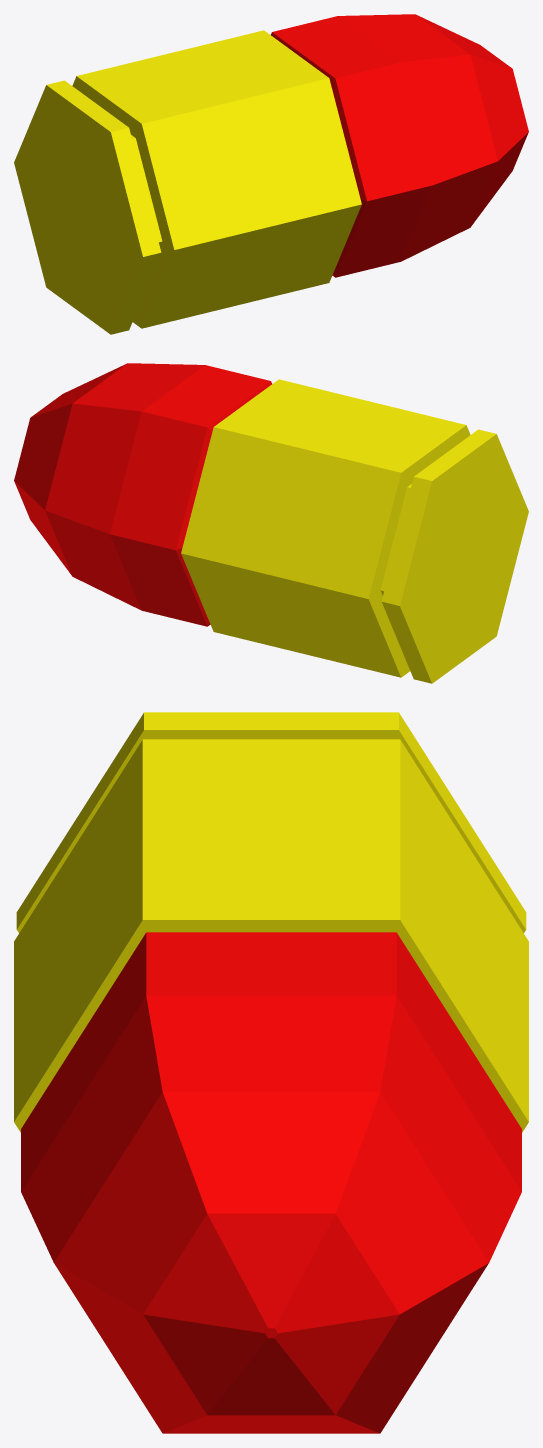
3 renders of one model, top to bottom at view 1: azimuth 30°, elevation 25°; view 2: azimuth 150°, elevation 25°; view 3: azimuth 270°, elevation 25°, orthographic. The views are drawn at different scales.
Visible parts, largest first — view 1: Object_4_mesh0, Object_5_mesh0; view 2: Object_4_mesh0, Object_5_mesh0; view 3: Object_5_mesh0, Object_4_mesh0.
Part boxes in pixels (x1,y1,x2,y2): Object_4_mesh0: [14, 30, 361, 334]; Object_5_mesh0: [271, 14, 528, 277]; Object_4_mesh0: [181, 379, 528, 683]; Object_5_mesh0: [14, 363, 271, 626]; Object_5_mesh0: [21, 932, 521, 1433]; Object_4_mesh0: [14, 712, 528, 1132].
Bounding box in the file's own units: 35.1 × 15.71 × 18.14.
